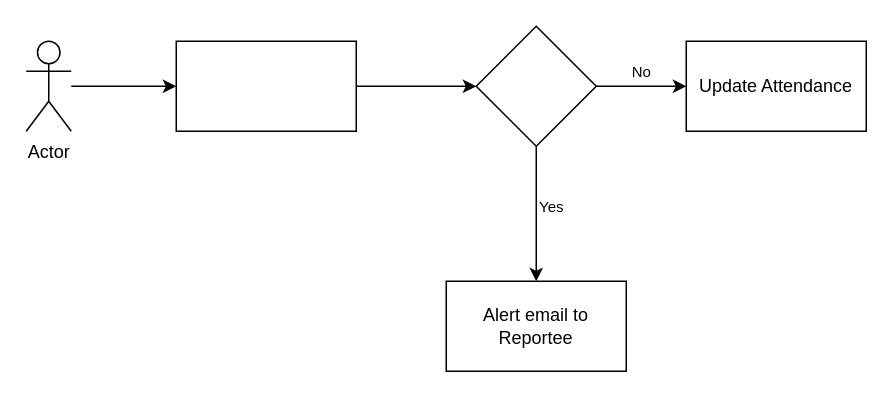
The diagram is 893 pixels wide and 398 high, and some of its shapes have lost their labels. Here are the shapes that lost their labels. From the top down, the box of each, then its label:
(175, 40, 356, 131): Employee tries to enter attendance
(475, 25, 596, 146): Is Employee WFH
